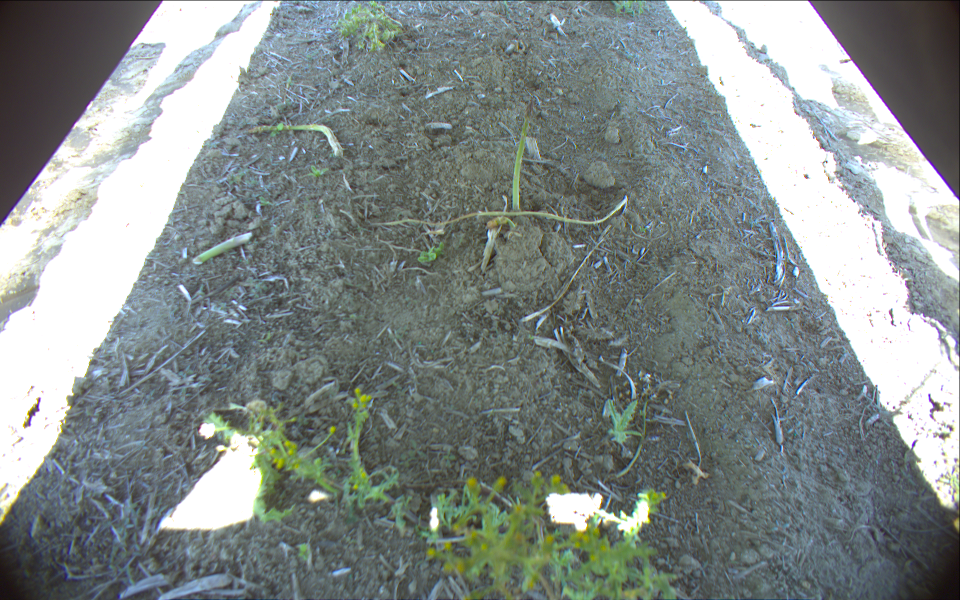aspa: (509, 100, 534, 215)
